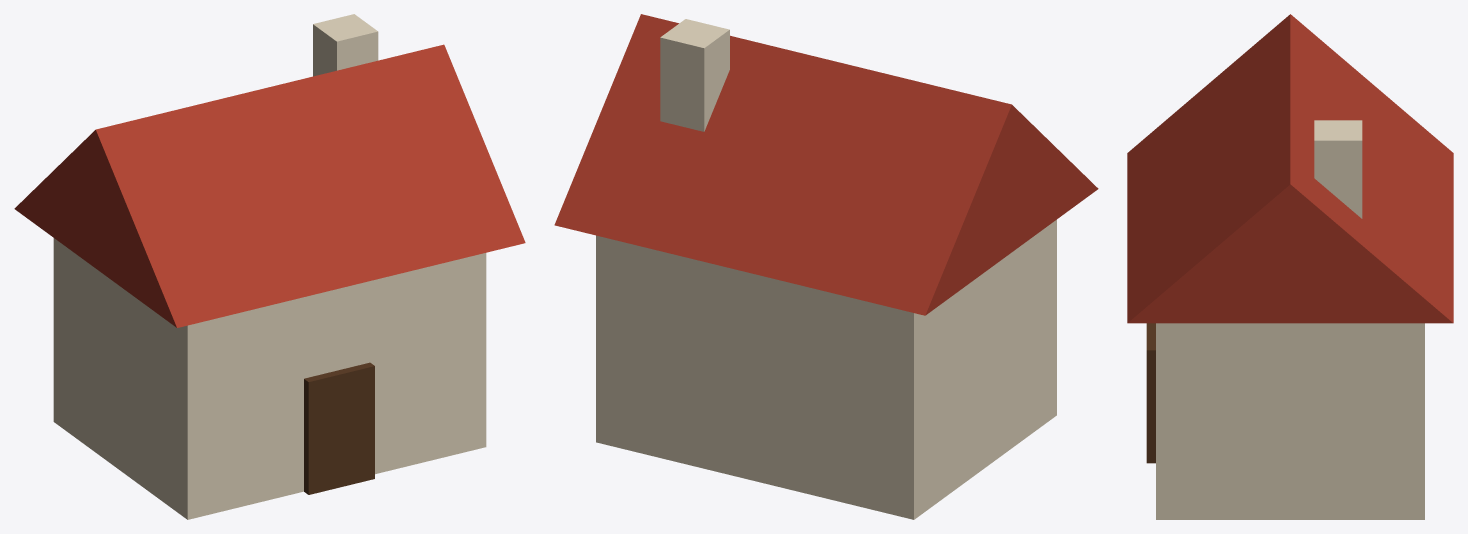
File: Hut.glb
The picture shows the model from 3 angles, left to right: view 1: azimuth 30°, elevation 25°; view 2: azimuth 150°, elevation 25°; view 3: azimuth 270°, elevation 25°; orthographic projection. The views are drawn at different scales.
Parts seen in each view (by area): view 1: Hut; view 2: Hut; view 3: Hut.
Boxes of the visible parts, bbox=[...] form: Hut: bbox=[14, 14, 525, 519]; Hut: bbox=[554, 14, 1098, 519]; Hut: bbox=[1127, 14, 1453, 519].
Size of the model in its own units: 0.42 by 0.42 by 0.34.
